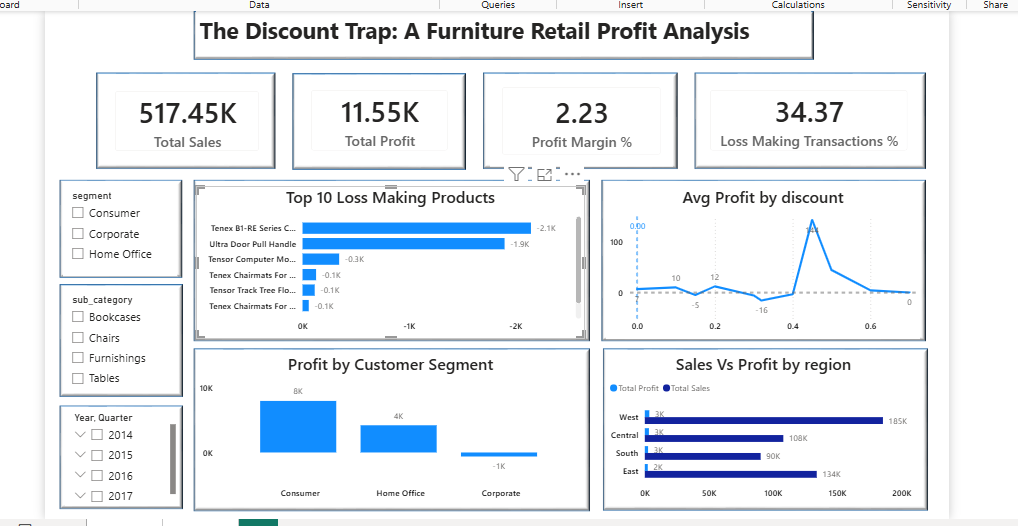

What the dashboard file says about the page in this screenshot:
{"tool":"powerbi","page":{"name":"Executive Summary","canvas":[1280,720],"ordinal":0},"visuals":[{"type":"cardVisual","fields":{"Data":["store_sales_cleaned.Total Sales"]},"box":[82.2,96.4,238.1,119.1],"z":0},{"type":"cardVisual","fields":{"Data":["store_sales_cleaned.Total Profit"]},"box":[360,95,228.2,120.5],"z":1000},{"type":"cardVisual","fields":{"Data":["store_sales_cleaned.Profit Margin %"]},"box":[630.7,90.7,259.4,130.4],"z":2000},{"type":"cardVisual","fields":{"Data":["store_sales_cleaned.Loss Making Transactions %"]},"box":[925.5,95,314.6,120.5],"z":3000},{"type":"clusteredBarChart","title":"Top 10 Loss Making Products ","fields":{"Category":["store_sales_cleaned.product_name"],"Y":["store_sales_cleaned.Total Profit"]},"box":[214,248,551.3,216.9],"z":4000},{"type":"lineChart","fields":{"Category":["store_sales_cleaned.discount"],"Y":["store_sales_cleaned.Avg Profit"]},"box":[795.1,248,445,216.9],"z":5000},{"type":"clusteredColumnChart","title":"Profit by Customer Segment","fields":{"Category":["store_sales_cleaned.segment"],"Y":["store_sales_cleaned.Total Profit"]},"box":[214,484.7,551.3,216.9],"z":6000},{"type":"clusteredBarChart","title":"Sales Vs Profit by region","fields":{"Category":["store_sales_cleaned.region"],"Y":["store_sales_cleaned.Total Profit","store_sales_cleaned.Total Sales"]},"box":[795.1,484.7,446.5,216.9],"z":7000},{"type":"slicer","fields":{"Values":["store_sales_cleaned.segment"]},"box":[25.5,248,161.6,127.6],"z":8000},{"type":"slicer","fields":{"Values":["store_sales_cleaned.sub_category"]},"box":[25.5,395.4,164.4,146],"z":9000},{"type":"slicer","fields":{"Values":["store_sales_cleaned.order_date.Variation.Date Hierarchy.Year","store_sales_cleaned.order_date.Variation.Date Hierarchy.Quarter"]},"box":[28.3,562.7,161.6,138.9],"z":10000},{"type":"textbox","box":[214,0,871.7,63.8],"z":11000}]}

Visuals, with their boxes on the page's 1280x720 design canvas (x1, y1, x2, y2). These are canvas units, not pixel positions in the 1018x526 screenshot, which may show the page scaled, cropped or inside an application window:
cardVisual - store_sales_cleaned.Total Sales: [82, 96, 320, 216]
cardVisual - store_sales_cleaned.Total Profit: [360, 95, 588, 216]
cardVisual - store_sales_cleaned.Profit Margin %: [631, 91, 890, 221]
cardVisual - store_sales_cleaned.Loss Making Transactions %: [926, 95, 1240, 216]
"Top 10 Loss Making Products " clusteredBarChart: [214, 248, 765, 465]
lineChart - store_sales_cleaned.discount x store_sales_cleaned.Avg Profit: [795, 248, 1240, 465]
"Profit by Customer Segment" clusteredColumnChart: [214, 485, 765, 702]
"Sales Vs Profit by region" clusteredBarChart: [795, 485, 1242, 702]
slicer - store_sales_cleaned.segment: [26, 248, 187, 376]
slicer - store_sales_cleaned.sub_category: [26, 395, 190, 541]
slicer - store_sales_cleaned.order_date.Variation.Date Hierarchy.Year x store_sales_cleaned.order_date.Variation.Date Hierarchy.Quarter: [28, 563, 190, 702]
textbox: [214, 0, 1086, 64]
